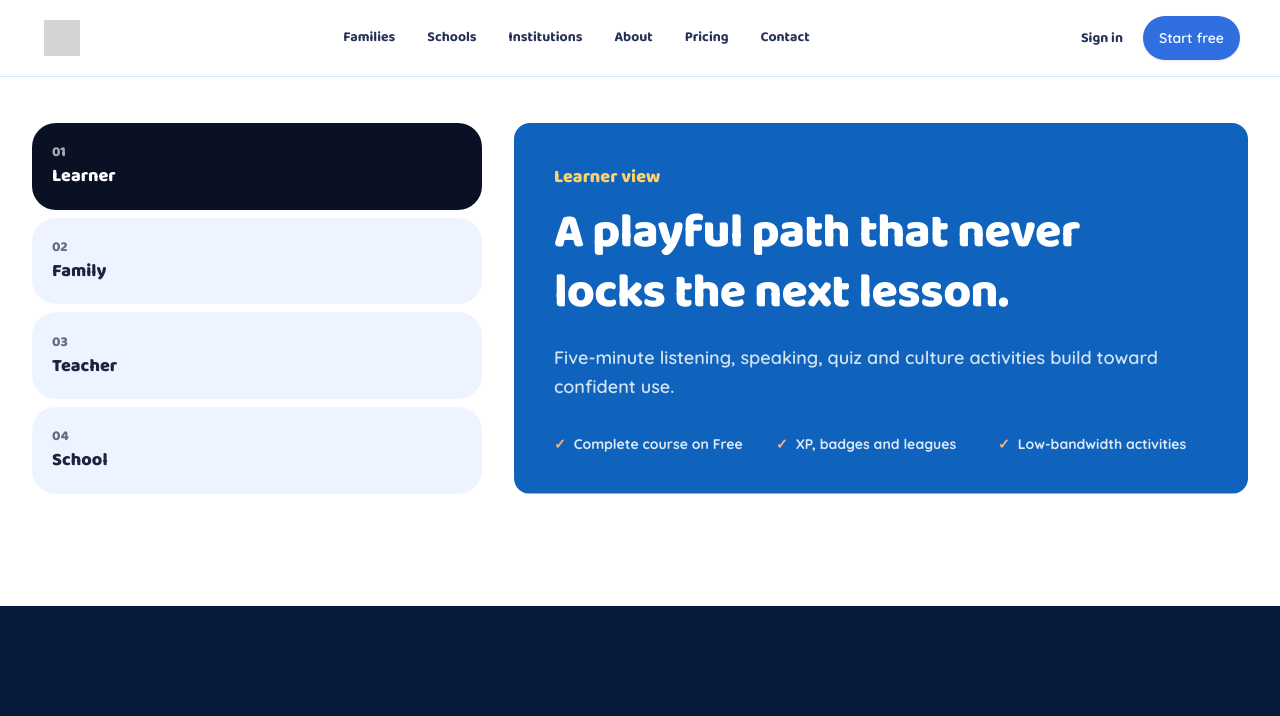
landing concepts › V5 explains the ecosystem from each role
The width and height of the screenshot is (1280, 716).
(page scrolled)
Click the tab "04 School" at {"x": 80, "y": 460}, box [32,407,482,494]
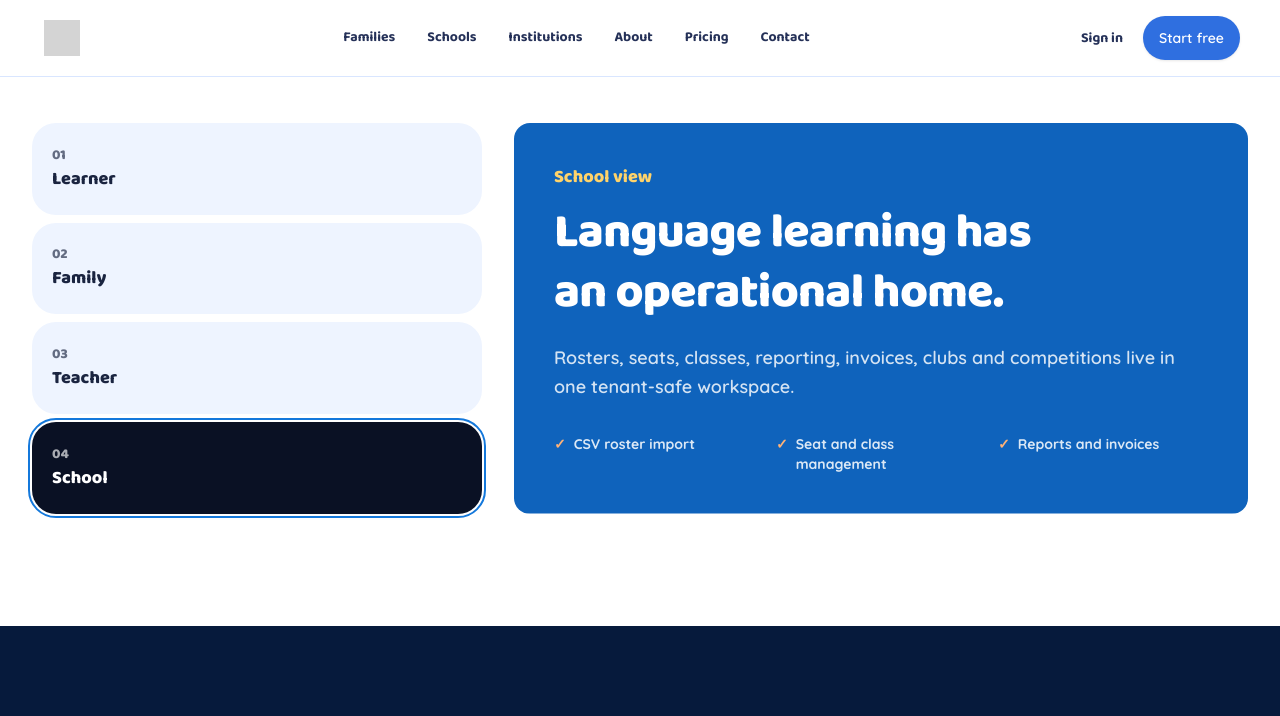
Expected: the heading "Language learning has an operational home." is shown, [554,194,1031,331]
Expected: the list item "CSV roster import" is shown, [574,434,695,452]
